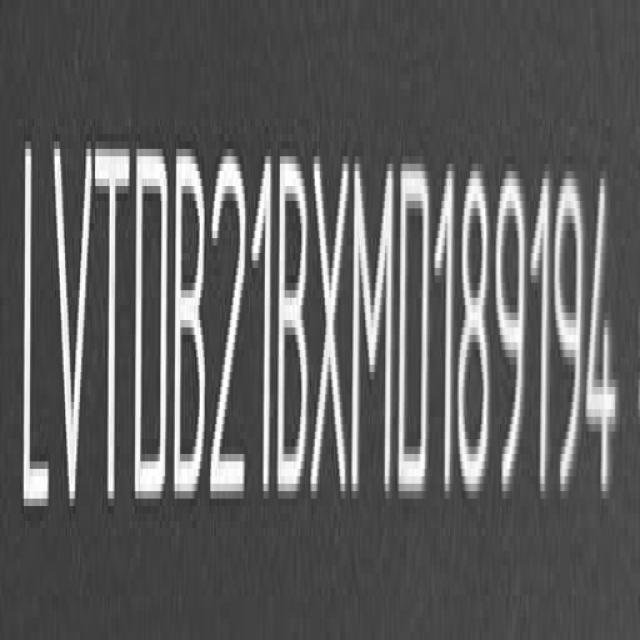1: (253, 147, 277, 511), (434, 164, 456, 502), (529, 169, 551, 506)
2: (210, 150, 250, 514)
4: (589, 175, 624, 510)
8: (459, 170, 493, 501)
9: (495, 168, 528, 503), (555, 173, 587, 508)
B: (176, 144, 212, 514), (278, 147, 313, 505)
D: (131, 137, 170, 512), (398, 154, 432, 502)
L: (15, 130, 48, 534)
M: (352, 154, 397, 506)
T: (98, 134, 130, 522)
V: (48, 128, 94, 525)
X: (312, 151, 348, 507)
